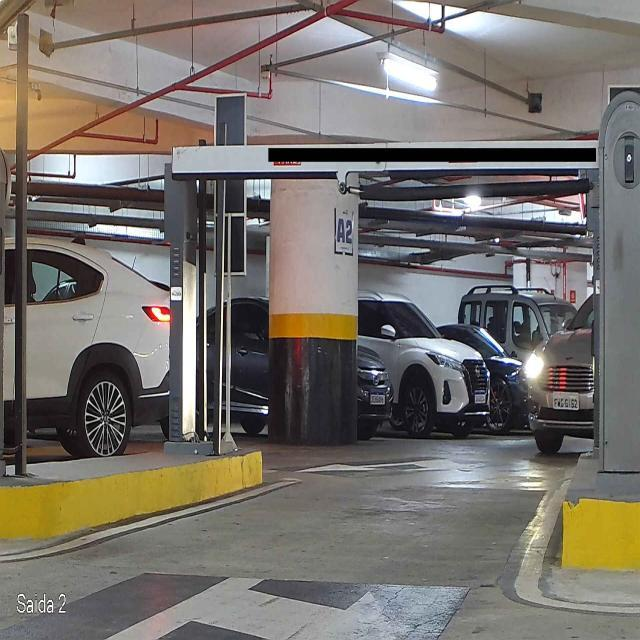old_plate: (552, 391, 580, 411)
